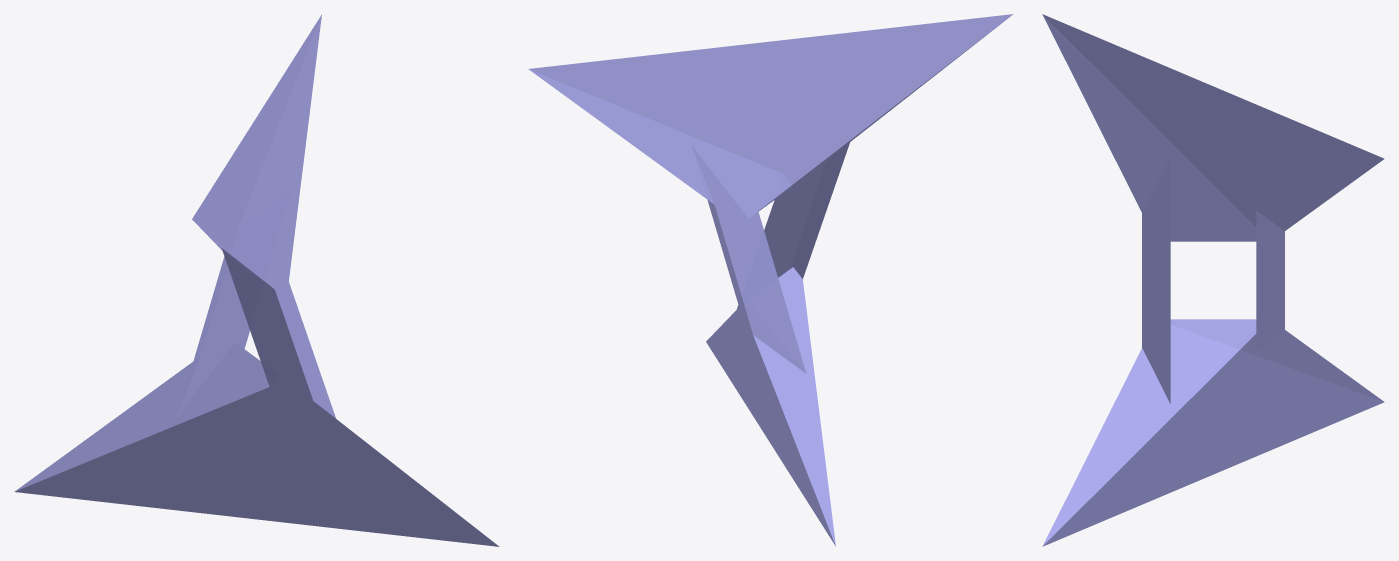
File: HexagonalToroid_G.obj
The picture shows the model from 3 angles, left to right: view 1: azimuth 30°, elevation 25°; view 2: azimuth 150°, elevation 25°; view 3: azimuth 270°, elevation 25°; orthographic projection. The views are drawn at different scales.
Size of the model in its own units: 9.6 by 12 by 9.6.
